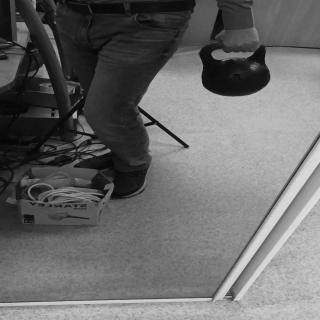kettlebell: (198, 43, 274, 99)
